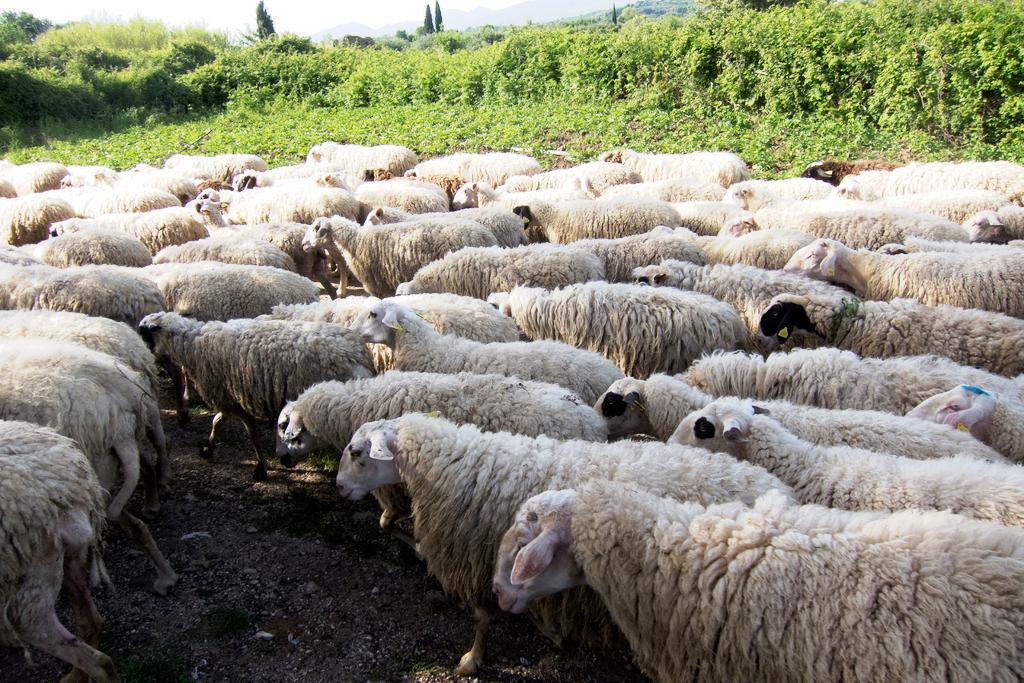Sheep: (333, 412, 803, 680), (490, 482, 1024, 683), (137, 310, 398, 531), (273, 368, 611, 530), (0, 337, 185, 597), (662, 395, 1024, 524), (0, 307, 177, 521), (0, 257, 194, 422), (0, 416, 114, 682), (478, 280, 748, 378), (348, 300, 629, 384), (590, 370, 849, 453), (668, 346, 908, 428), (249, 292, 521, 357), (757, 291, 1024, 356), (779, 237, 1024, 307), (112, 259, 322, 336), (300, 215, 500, 290), (629, 257, 857, 316), (392, 244, 610, 301), (825, 159, 1024, 212), (715, 203, 971, 243), (900, 383, 1024, 465), (187, 187, 314, 262), (509, 197, 685, 246), (364, 204, 527, 249), (308, 171, 450, 222), (47, 212, 212, 252), (562, 231, 710, 275), (144, 235, 299, 277), (598, 148, 751, 188), (862, 187, 1011, 228), (872, 235, 1024, 272), (24, 228, 153, 271), (491, 162, 643, 198), (402, 152, 542, 189), (305, 137, 421, 180), (445, 179, 595, 212), (720, 177, 837, 214), (0, 197, 78, 249), (227, 160, 330, 193), (0, 158, 75, 197), (798, 158, 909, 184), (957, 202, 1023, 243), (163, 149, 240, 184)
